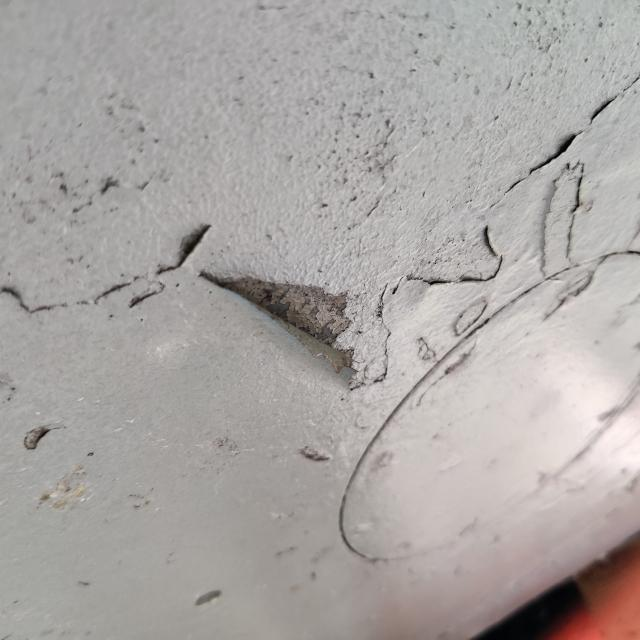paint-off: (179, 239, 380, 412)
